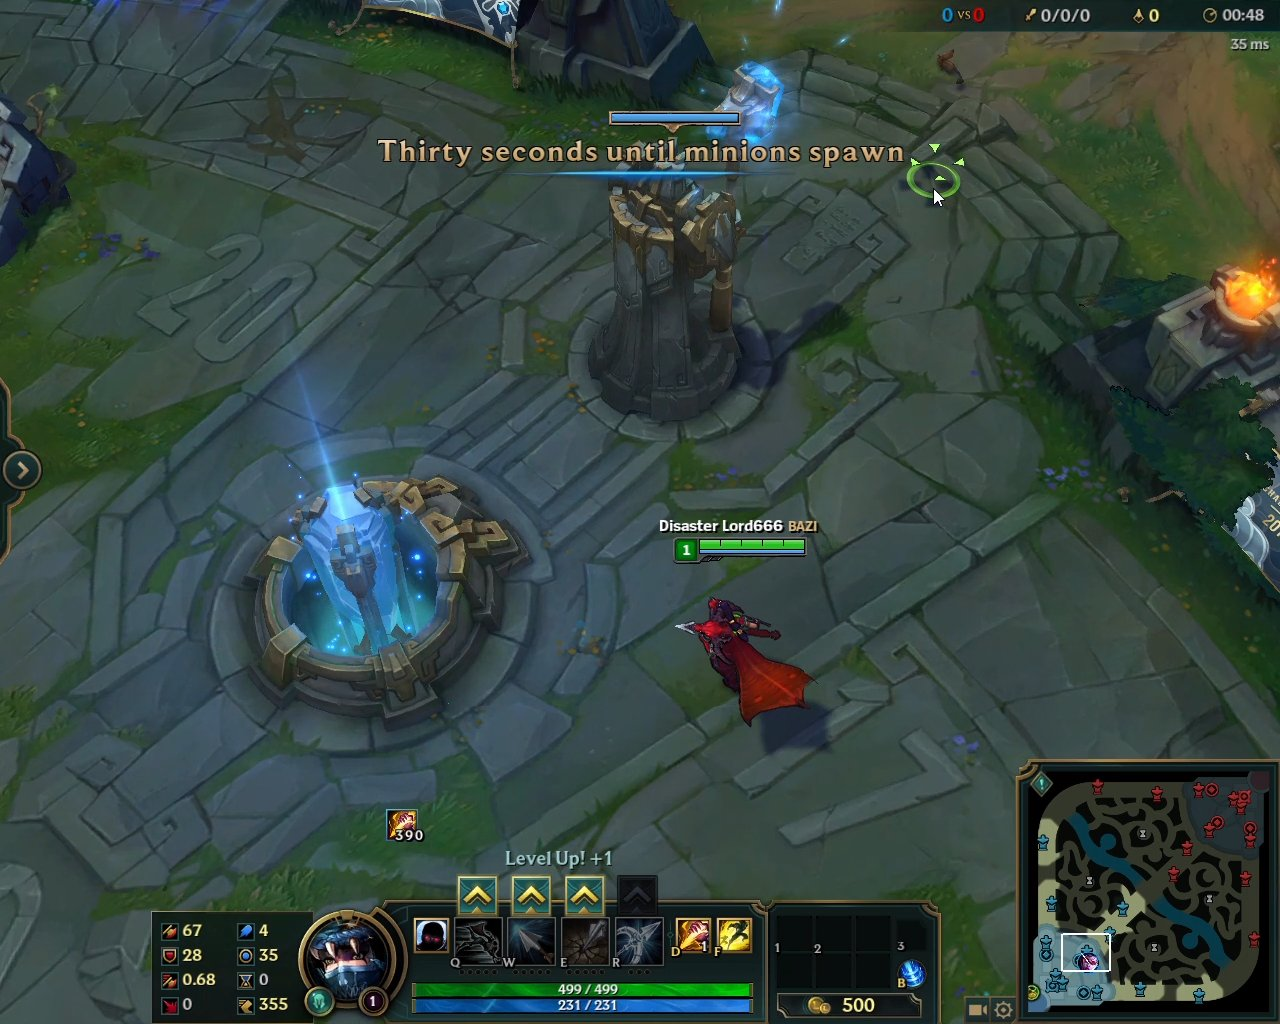Vayne: (665, 591, 823, 739)
